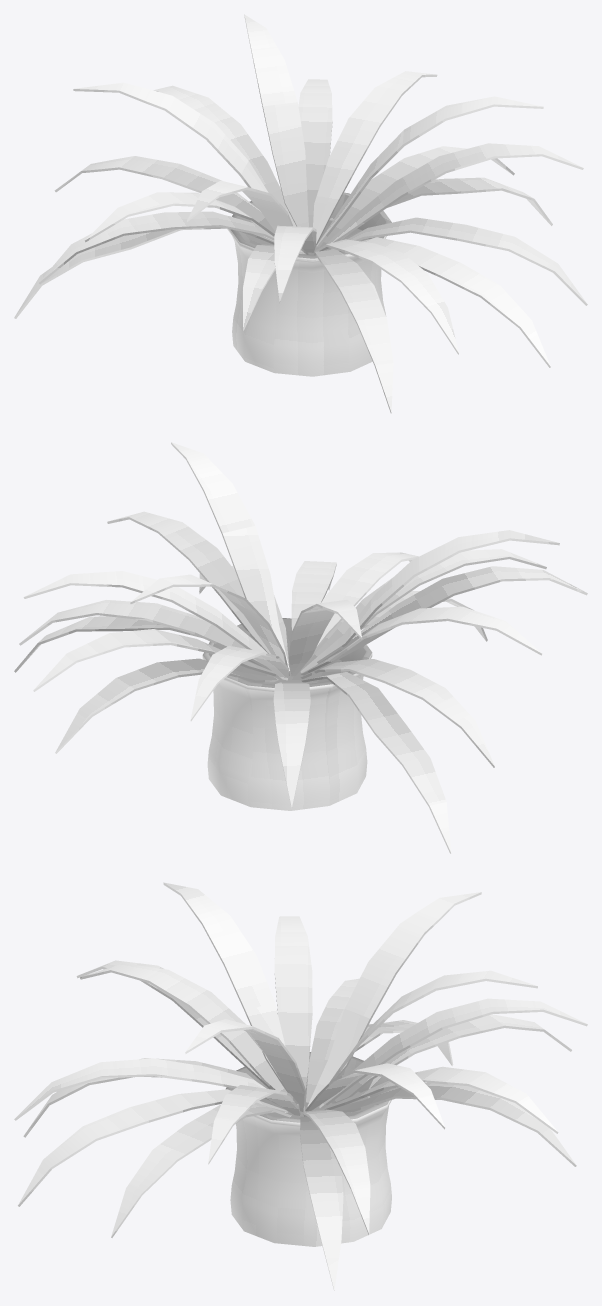
Rendered from PottedPlant.glb.
The picture shows the model from 3 angles, top to bottom: view 1: azimuth 30°, elevation 25°; view 2: azimuth 150°, elevation 25°; view 3: azimuth 270°, elevation 25°; orthographic projection. The views are drawn at different scales.
Visible parts, largest first — view 1: PottedPlant, PottedPlant.001; view 2: PottedPlant, PottedPlant.001, PottedPlant.002; view 3: PottedPlant, PottedPlant.001.
Boxes of the visible parts, box(x1,y1,x2,y2) form: PottedPlant: box(14, 14, 587, 413); PottedPlant.001: box(227, 192, 391, 376); PottedPlant: box(14, 442, 587, 853); PottedPlant.001: box(202, 618, 372, 810); PottedPlant.002: box(234, 648, 349, 684); PottedPlant: box(14, 882, 587, 1290); PottedPlant.001: box(226, 1052, 396, 1246).
Bounding box in the file's own units: 0.9423 × 0.4497 × 0.9164.
1 material, 1 textured.
